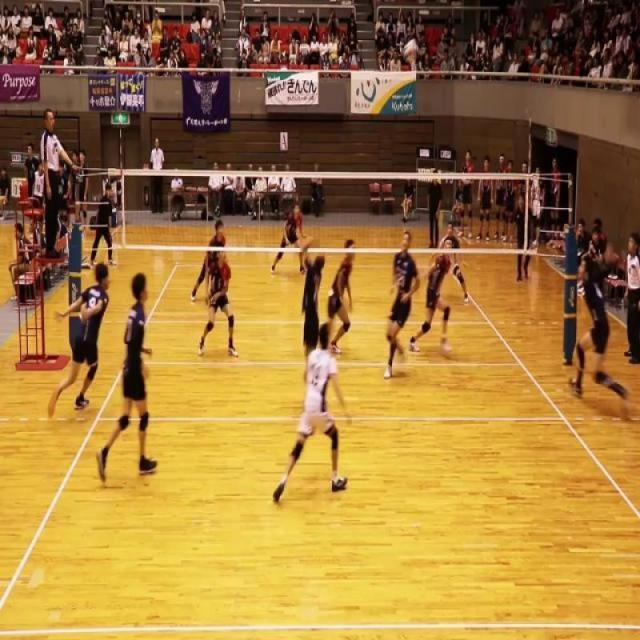volleyball: (402, 38, 417, 62)
